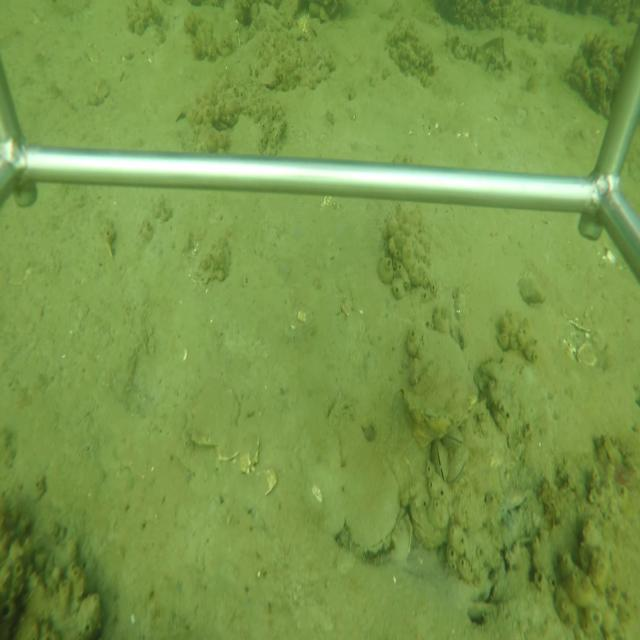Oyster-Closed: (337, 408, 404, 557), (402, 322, 482, 435), (446, 445, 470, 488), (430, 436, 450, 485), (442, 421, 465, 455)
